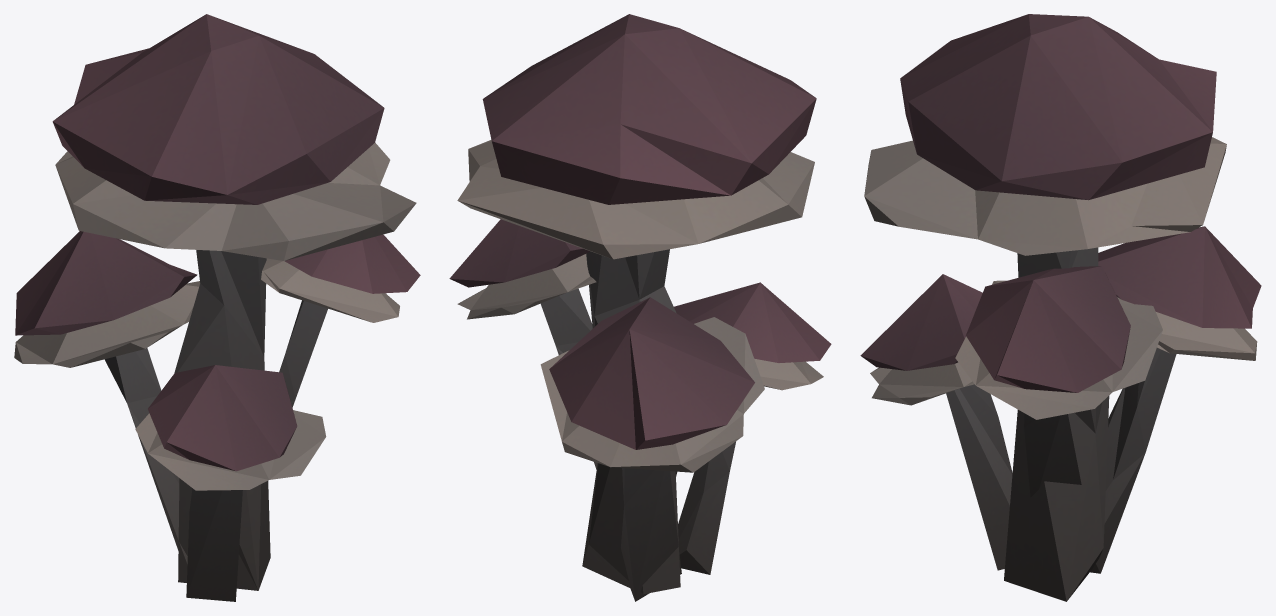
The model's file is Mush_2D_LOD.fbx.
3 renders of one model, left to right at view 1: azimuth 30°, elevation 25°; view 2: azimuth 150°, elevation 25°; view 3: azimuth 270°, elevation 25°, orthographic.
Visible parts, largest first — view 1: polySurface1320; view 2: polySurface1320; view 3: polySurface1320.
Part boxes in pixels (x1,y1,x2,y2): polySurface1320: (14,14,420,601); polySurface1320: (449,14,831,601); polySurface1320: (860,14,1261,601).
Bounding box in the file's own units: 1.29 × 2.13 × 1.37.
